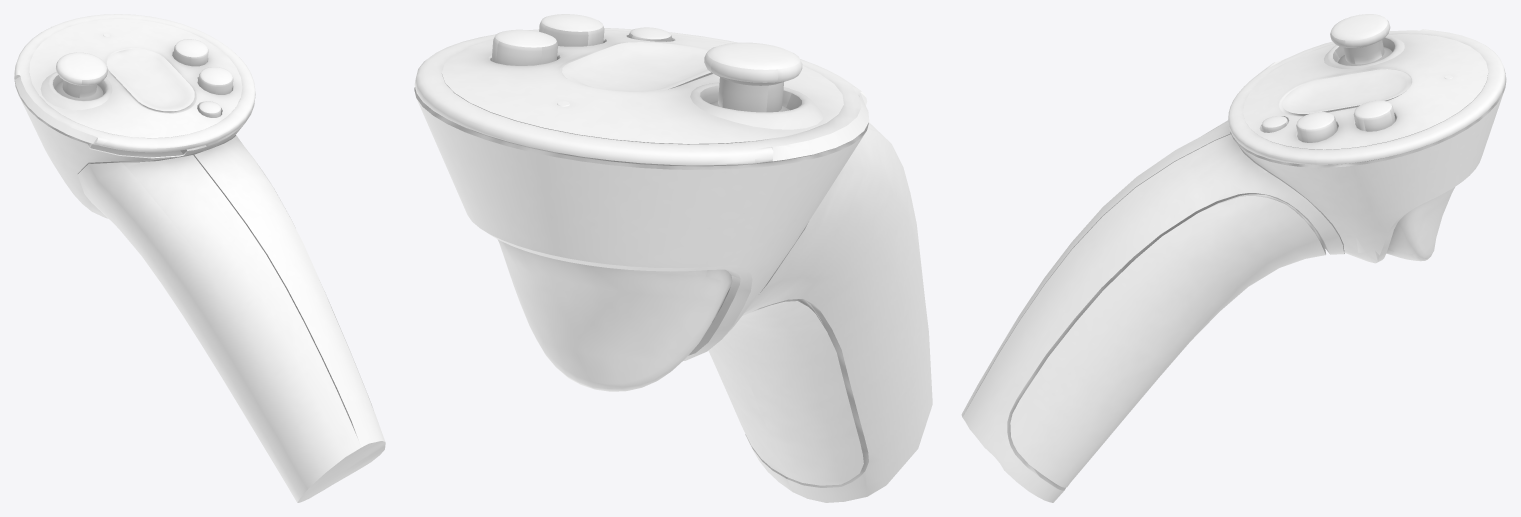
The model's file is Index_Left.glb.
3 views of the same model, side by side, from view 1: azimuth 30°, elevation 25°; view 2: azimuth 150°, elevation 25°; view 3: azimuth 270°, elevation 25° (orthographic). The views are drawn at different scales.
Visible parts, largest first — view 1: Index_Left; view 2: Index_Left; view 3: Index_Left.
Part boxes in pixels (box(x1,y1,x2,y2)): Index_Left: box(14, 14, 385, 502); Index_Left: box(414, 14, 932, 502); Index_Left: box(961, 14, 1506, 502).
Bounding box in the file's own units: 0.0624 × 0.103 × 0.1207.
1 material, 1 textured.
